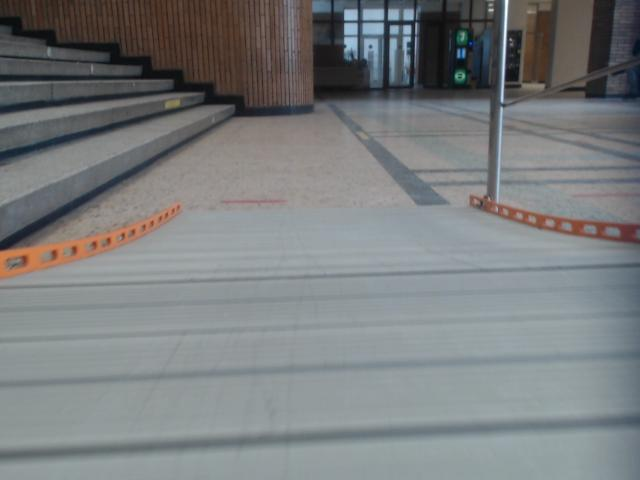rampDown: (0, 203, 639, 479)
ramps-railing: (487, 0, 639, 201)
